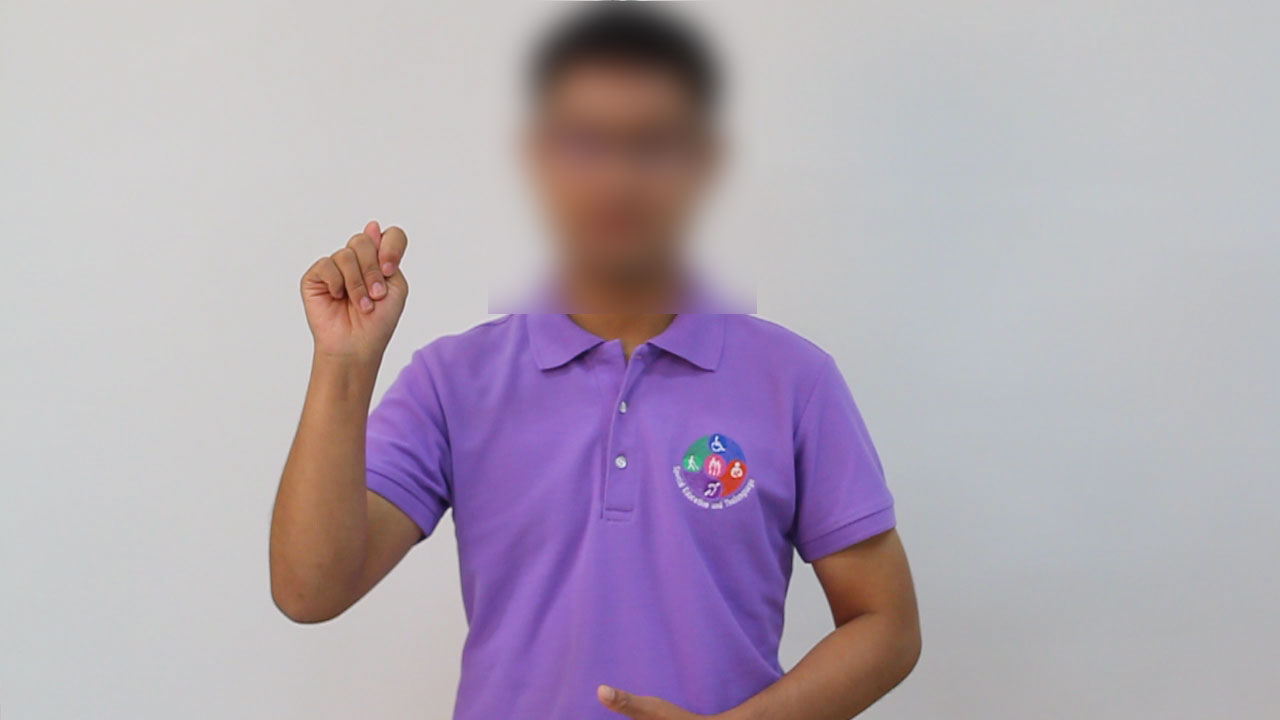tor: (290, 212, 424, 376)
